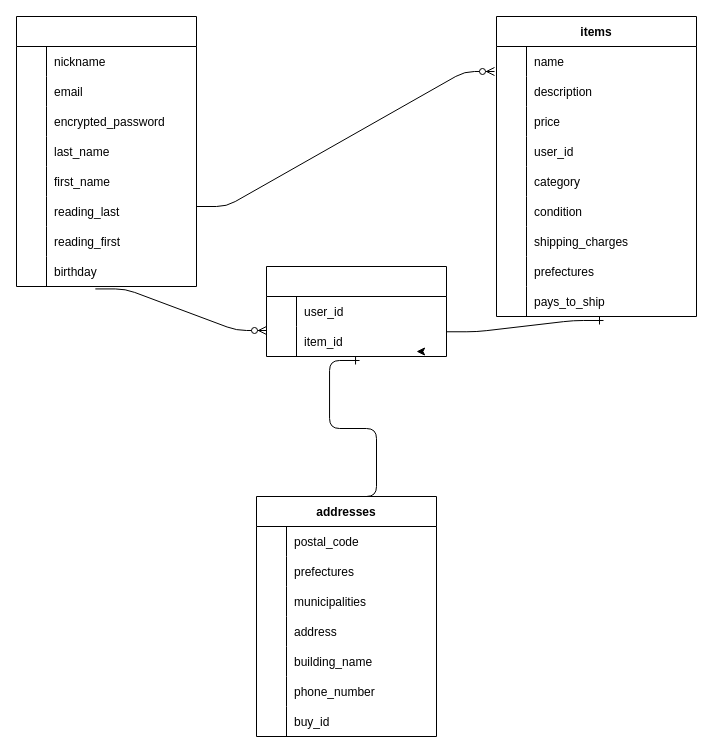
This 713x753 diagram has some shape labels left out. Each missing label, with the box of its shape:
buys: (266, 266, 446, 356)
users: (16, 16, 196, 286)
